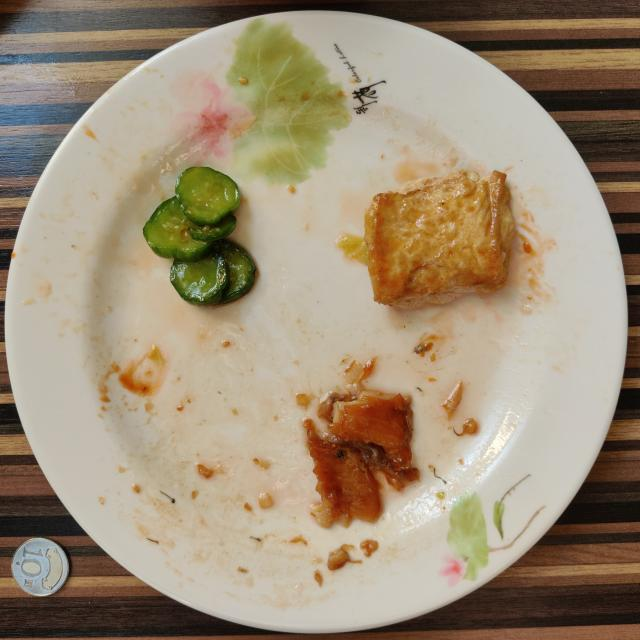Kabayaki sea bream fillet: (304, 390, 419, 528)
coin: (11, 538, 69, 596)
cucumber: (142, 166, 256, 306)
